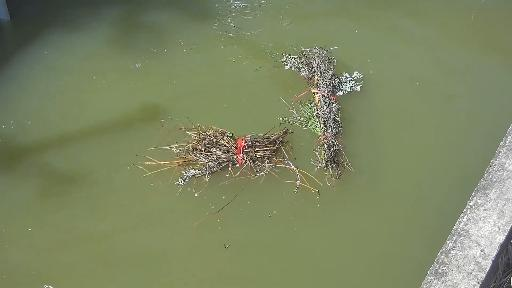twig: (143, 106, 330, 204), (291, 35, 361, 187)
